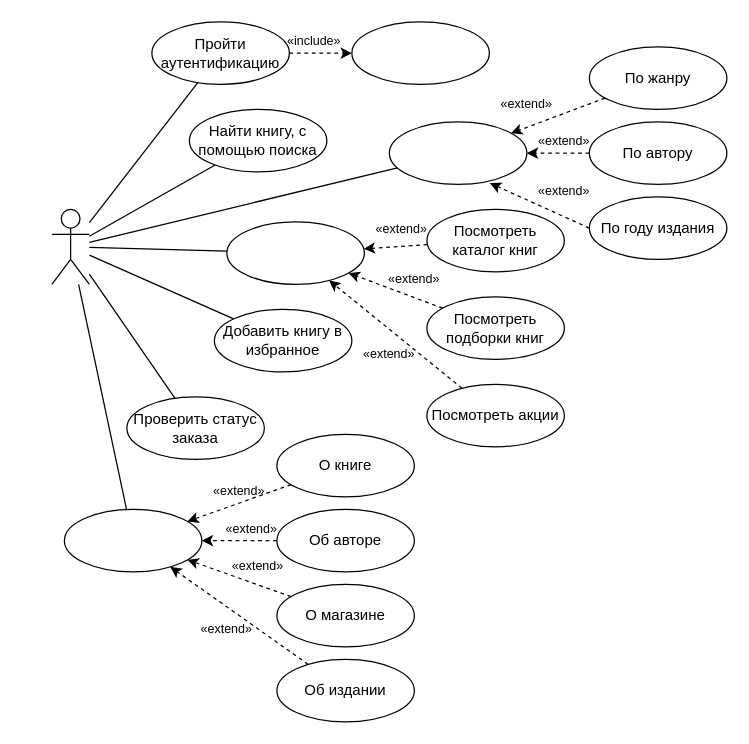
Image size: 749x744. Some labels were removed from this diagram. Each missing label, with the box of its shape:
Ввод номера: (351, 21, 489, 84)
Отфильтровать книги: (388, 121, 527, 184)
Пользователь: (51, 208, 89, 284)
Посмотреть информацию: (63, 508, 202, 572)
Посмотреть книги: (226, 221, 364, 284)
